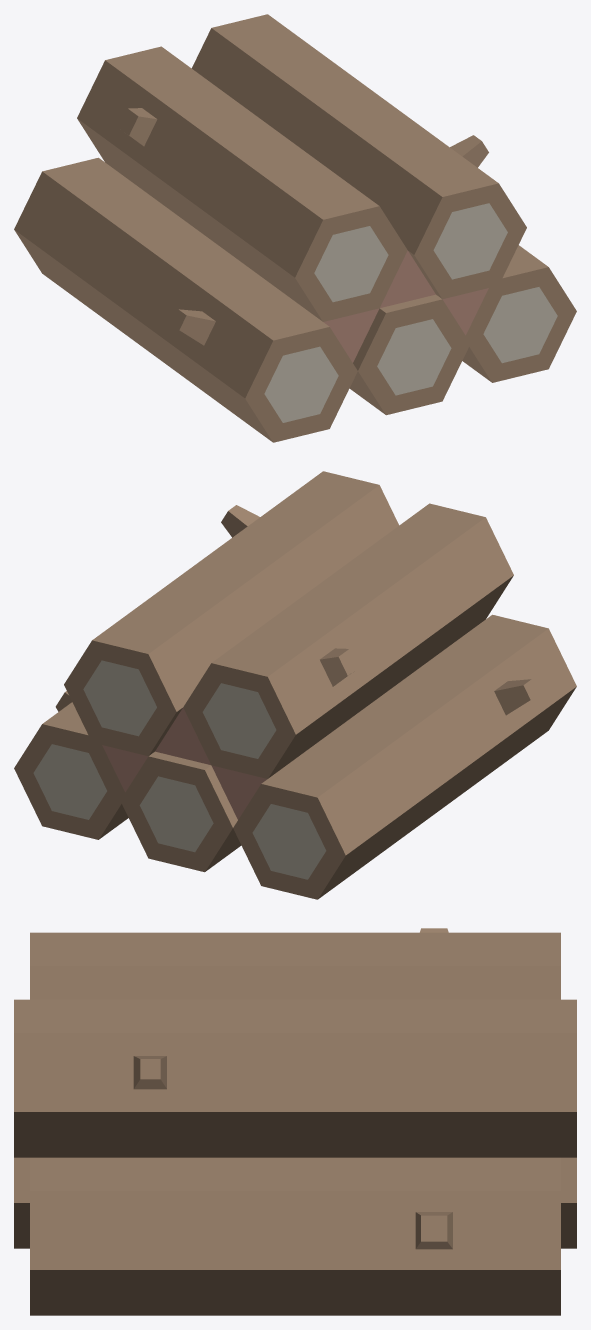
The picture shows the model from 3 angles, top to bottom: view 1: azimuth 30°, elevation 25°; view 2: azimuth 150°, elevation 25°; view 3: azimuth 270°, elevation 25°; orthographic projection. The views are drawn at different scales.
Parts seen in each view (by area): view 1: model; view 2: model; view 3: model.
Part boxes in pixels (x1,y1,x2,y2): model: [14, 14, 576, 442]; model: [14, 471, 576, 899]; model: [14, 928, 576, 1315].
Bounding box in the file's own units: 1.58 × 0.866 × 1.77.
